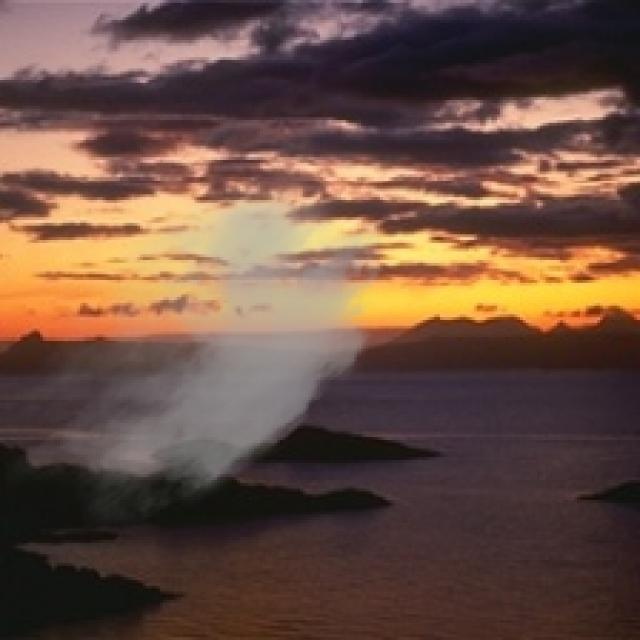smoke: (6, 160, 397, 534)
